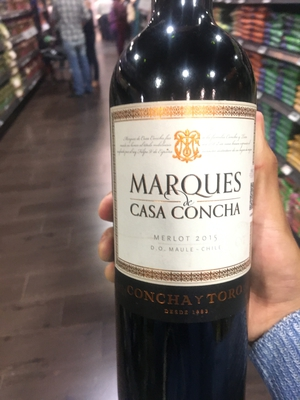marques de casa concha merlot: (105, 8, 267, 390)
